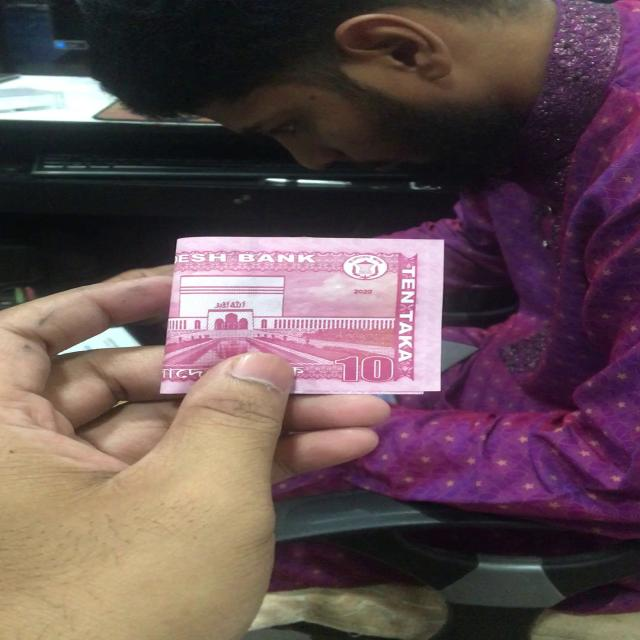Taka: (169, 237, 443, 395)
